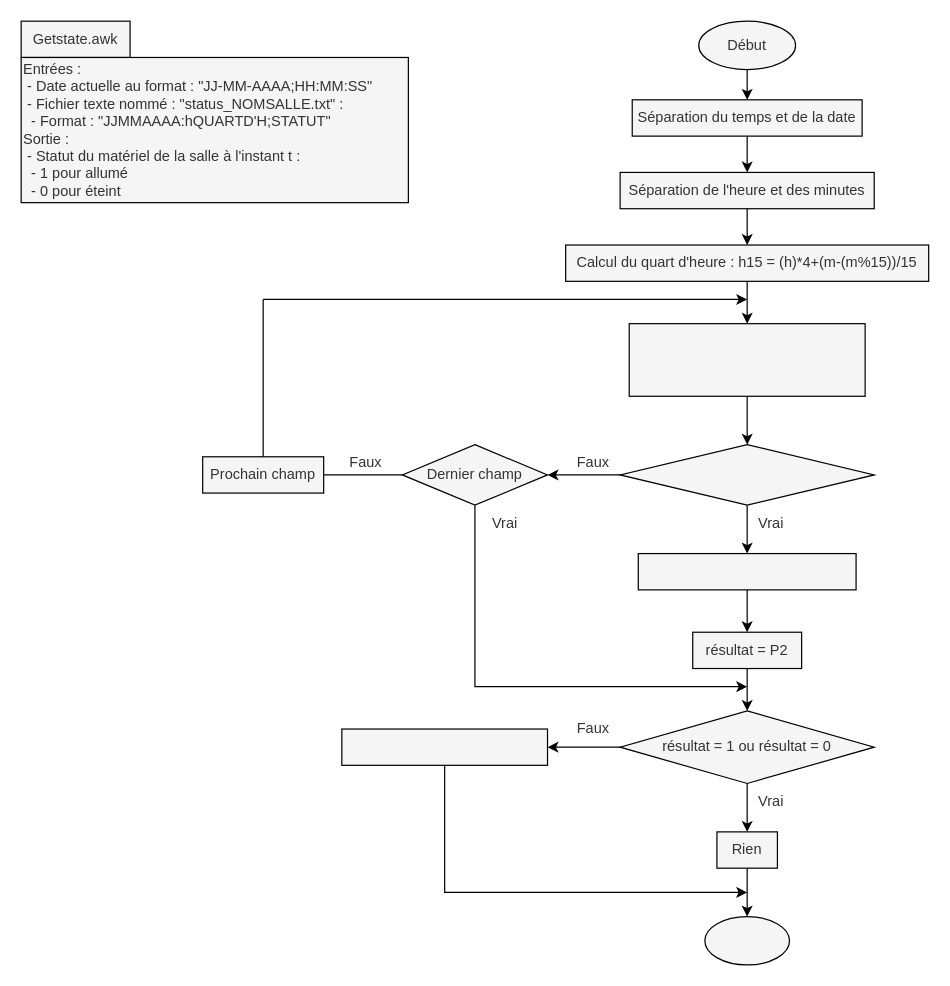
Some shapes in this 950 by 986 pixel diagram are drawn without their labels. The shapes that lost their labels are listed below. From the top down, each one's centre as x and y in pixels, then its label:
[746,359]: On coupe le champ en 2 parties : - P1 = "JJMMAAAA:hQUARTD'H" - P2 = "STATUT"
[746,474]: P1 = date_act ":h" h15
[746,571]: On envoi P2 en tant que sortie
[444,746]: On envoi 0 en tant que sortie
[747,940]: Fin
